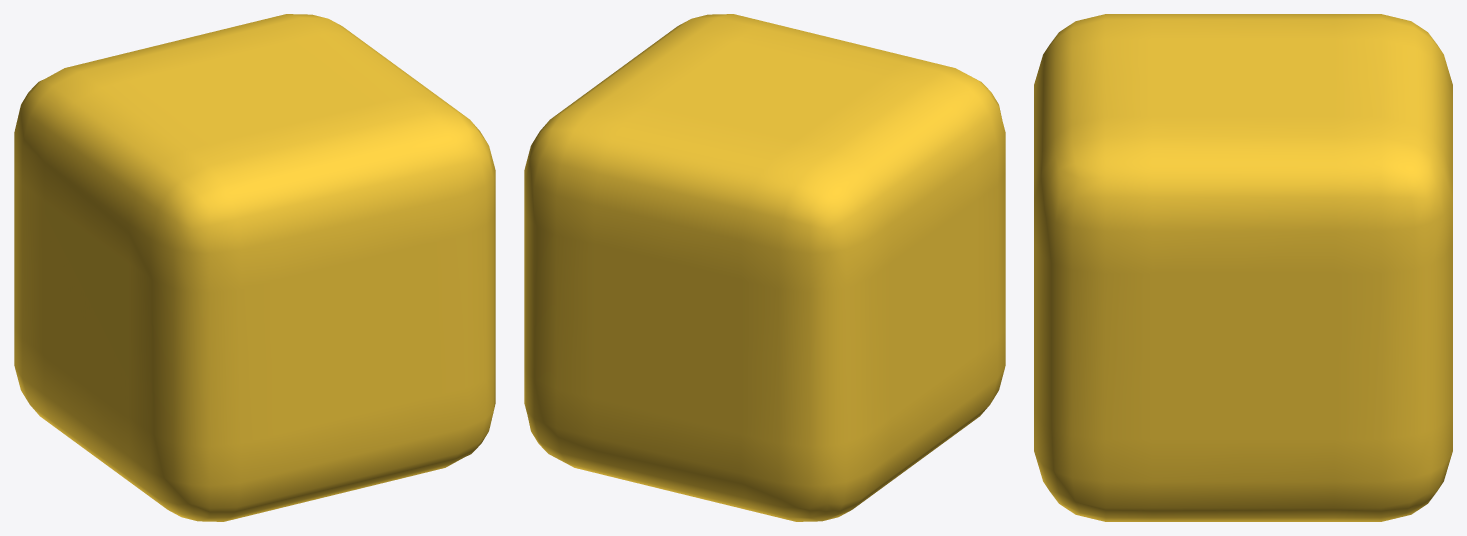
Rendered from DiceBlock.obj.
3 renders of one model, left to right at view 1: azimuth 30°, elevation 25°; view 2: azimuth 150°, elevation 25°; view 3: azimuth 270°, elevation 25°, orthographic. The views are drawn at different scales.
Visible parts, largest first — view 1: Block; view 2: Block; view 3: Block.
Boxes of the visible parts, x1,y1,x2,y2 form: Block: [14, 14, 495, 521]; Block: [524, 14, 1005, 521]; Block: [1034, 14, 1452, 521].
Bounding box in the file's own units: 4 × 4 × 4.
